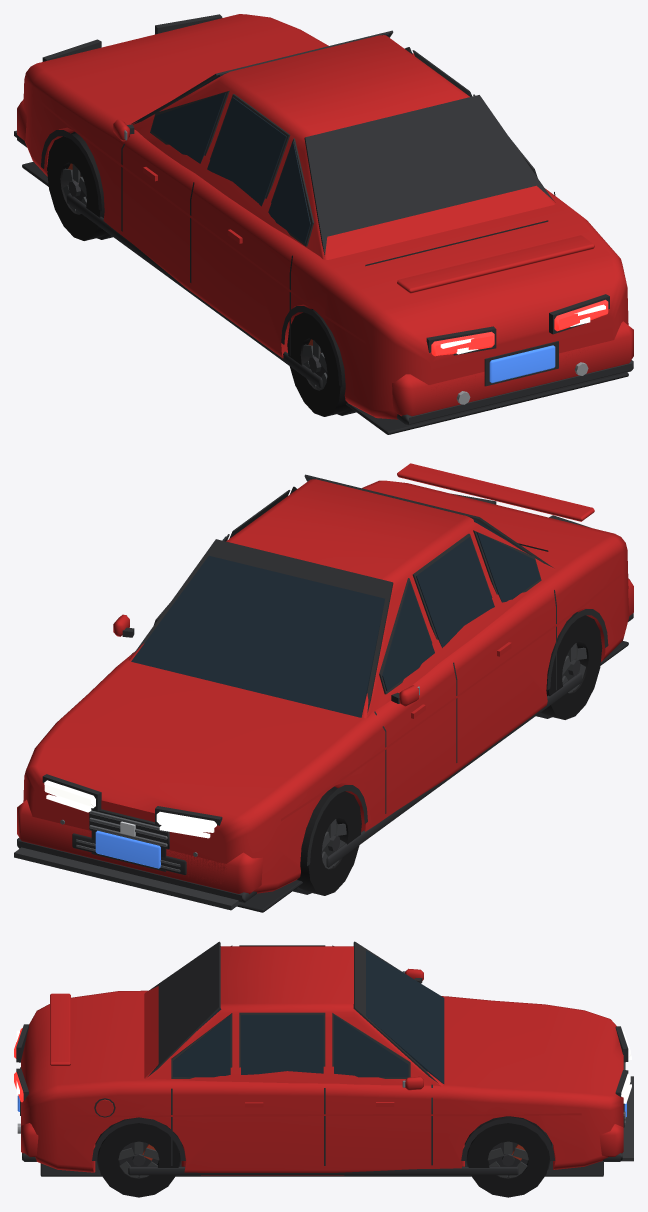
File: car_sedan_sport_red.glb
The picture shows the model from 3 angles, top to bottom: view 1: azimuth 30°, elevation 25°; view 2: azimuth 150°, elevation 25°; view 3: azimuth 270°, elevation 25°; orthographic projection. The views are drawn at different scales.
Parts seen in each view (by area): view 1: Body, Trim, Glass, Wheel_FL, Wheel_RL, Lights, Plate_R; view 2: Body, Glass, Trim, Wheel_FL, Wheel_RL, Lights, Plate_F; view 3: Body, Glass, Trim, Wheel_FR, Wheel_RR, Lights.
Part boxes in pixels (x1,y1,x2,y2): Body: [17, 14, 633, 419]; Trim: [14, 14, 633, 434]; Glass: [124, 34, 513, 243]; Wheel_FL: [47, 133, 107, 240]; Wheel_RL: [287, 310, 350, 416]; Lights: [431, 299, 608, 356]; Plate_R: [489, 345, 555, 382]; Body: [17, 463, 633, 893]; Glass: [126, 479, 540, 717]; Trim: [14, 474, 633, 912]; Wheel_FL: [297, 788, 361, 895]; Wheel_RL: [541, 613, 602, 719]; Lights: [44, 780, 216, 838]; Plate_F: [95, 830, 160, 868]; Body: [21, 946, 623, 1175]; Glass: [173, 950, 444, 1087]; Trim: [16, 941, 633, 1176]; Wheel_FR: [467, 1116, 549, 1197]; Wheel_RR: [97, 1117, 180, 1197]; Lights: [14, 1028, 631, 1103].
Bounding box in the file's own units: 2.03 × 1.49 × 4.73.
